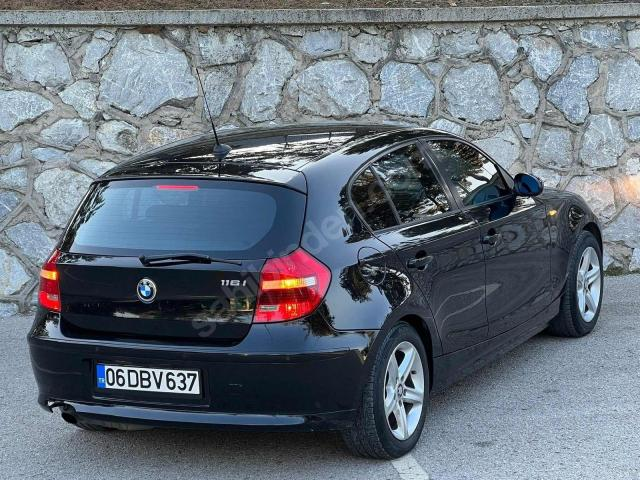plaka: (96, 364, 200, 395)
